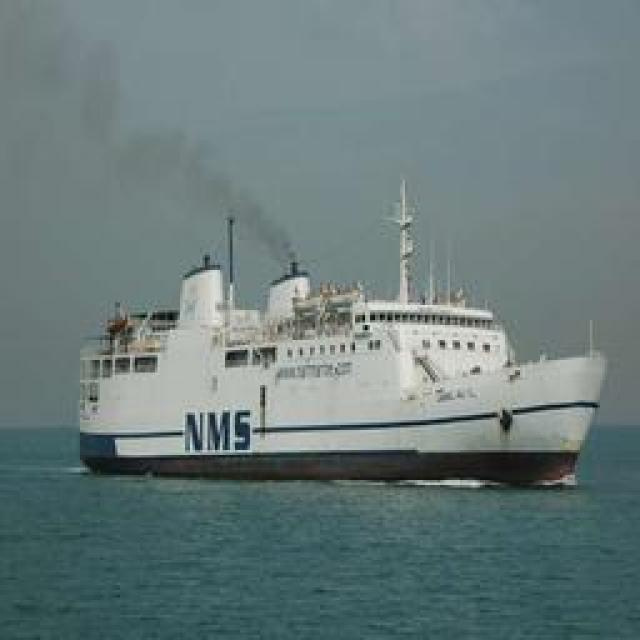CIV_Ship: (74, 170, 598, 475)
